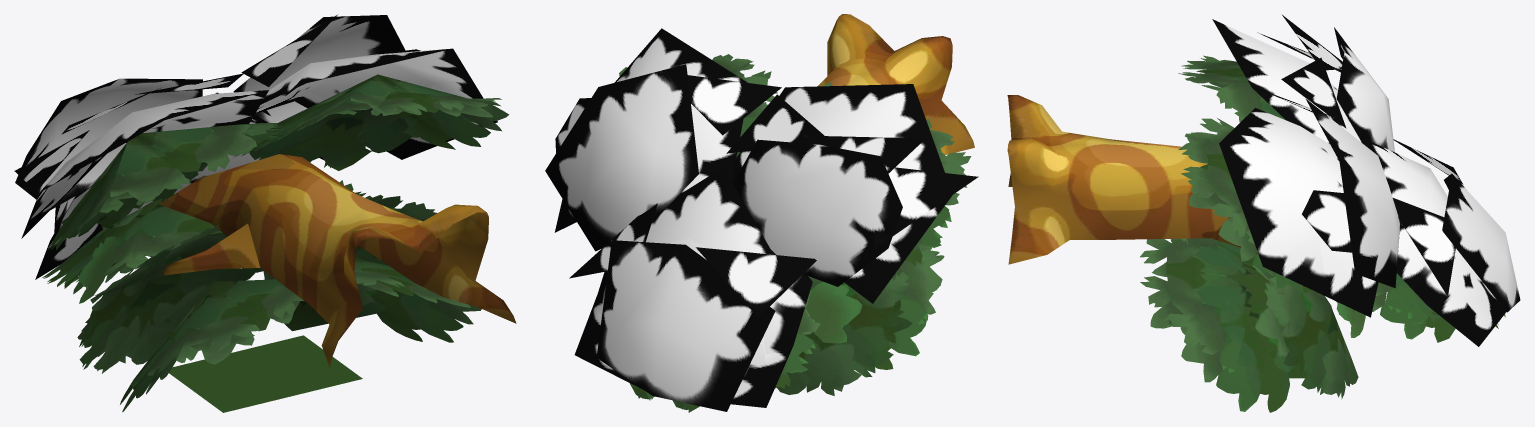
Rendered from tree.gltf.
The picture shows the model from 3 angles, left to right: view 1: azimuth 30°, elevation 25°; view 2: azimuth 150°, elevation 25°; view 3: azimuth 270°, elevation 25°; orthographic projection. The views are drawn at different scales.
Visible parts, largest first — view 1: _001_fg_treeA_4, _000_fg_treeA_4; view 2: _000_fg_treeA_4, _001_fg_treeA_4; view 3: _001_fg_treeA_4, _000_fg_treeA_4.
Boxes of the visible parts, left/top/right/bottom form: _001_fg_treeA_4: left=42, top=74, right=516, bottom=412; _000_fg_treeA_4: left=14, top=14, right=497, bottom=279; _000_fg_treeA_4: left=545, top=28, right=978, bottom=411; _001_fg_treeA_4: left=619, top=14, right=974, bottom=412; _001_fg_treeA_4: left=1007, top=55, right=1505, bottom=412; _000_fg_treeA_4: left=1212, top=15, right=1520, bottom=346.
Bounding box in the file's own units: 0.2374 × 0.1615 × 0.2645.
Materials: 2 (2 with a texture image).
